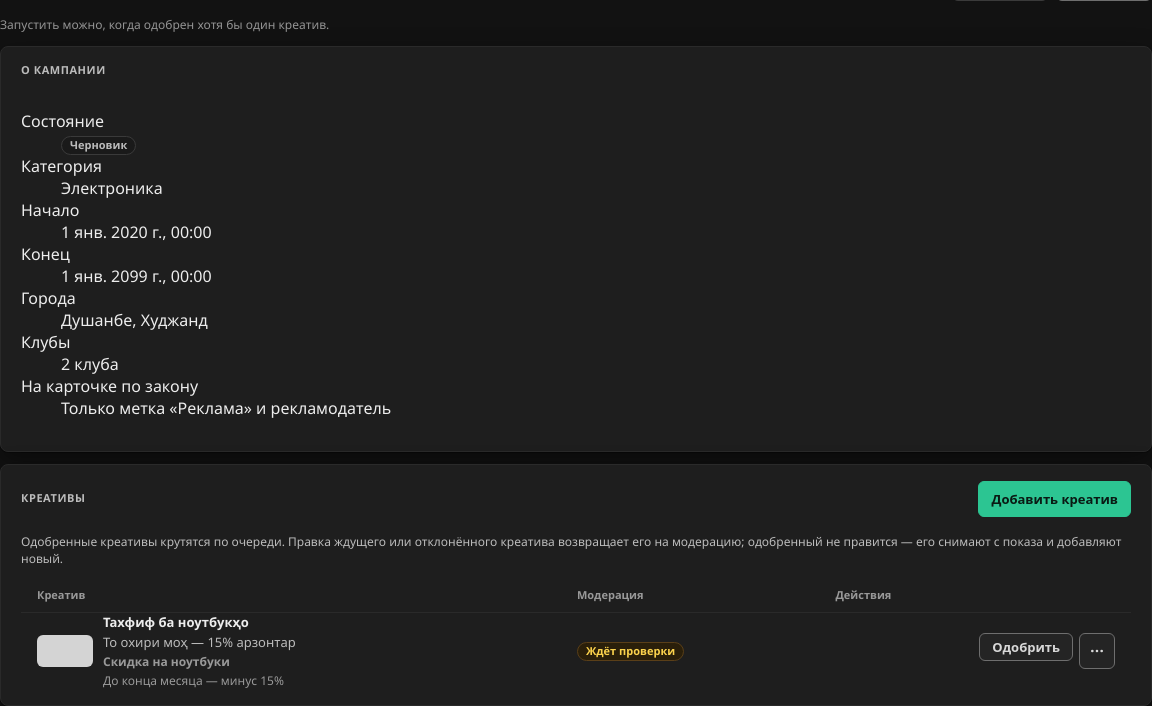
Scenario: AdCampaignPage › слова вроде «лучший» подсвечивает над отметками
The image size is (1152, 706).
(page scrolled)
Expected: the text "Тахфиф ба ноутбукҳо" is shown, [103,613,249,631]
Click the button "Одобрить": (1026, 647) [979,633,1073,661]
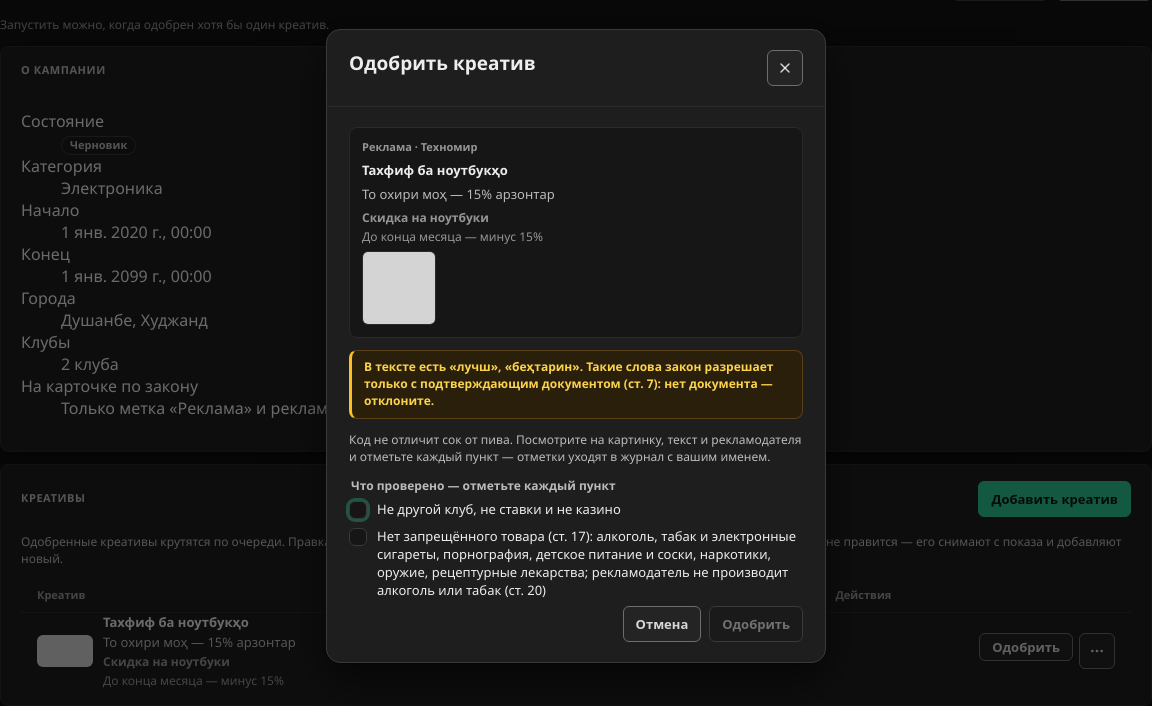
Expected: the text "В тексте есть «лучш», «беҳтарин»." shows "только с подтверждающим документом (ст. 7)", [364,358,773,409]
